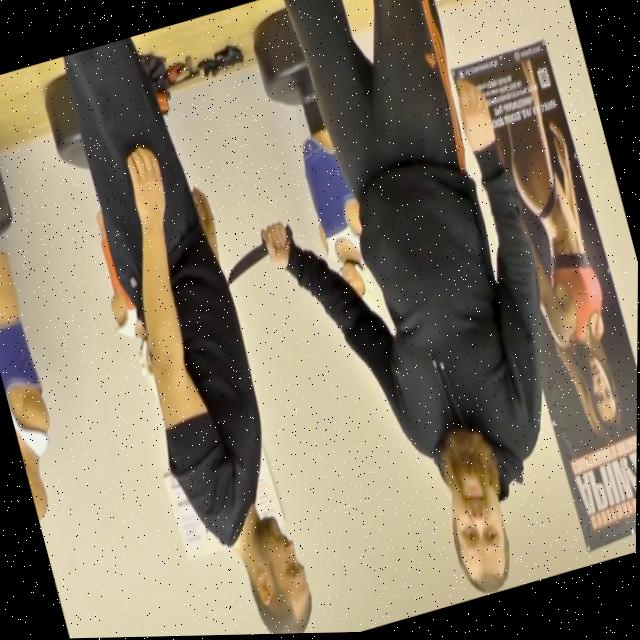knife: (219, 238, 276, 289)
